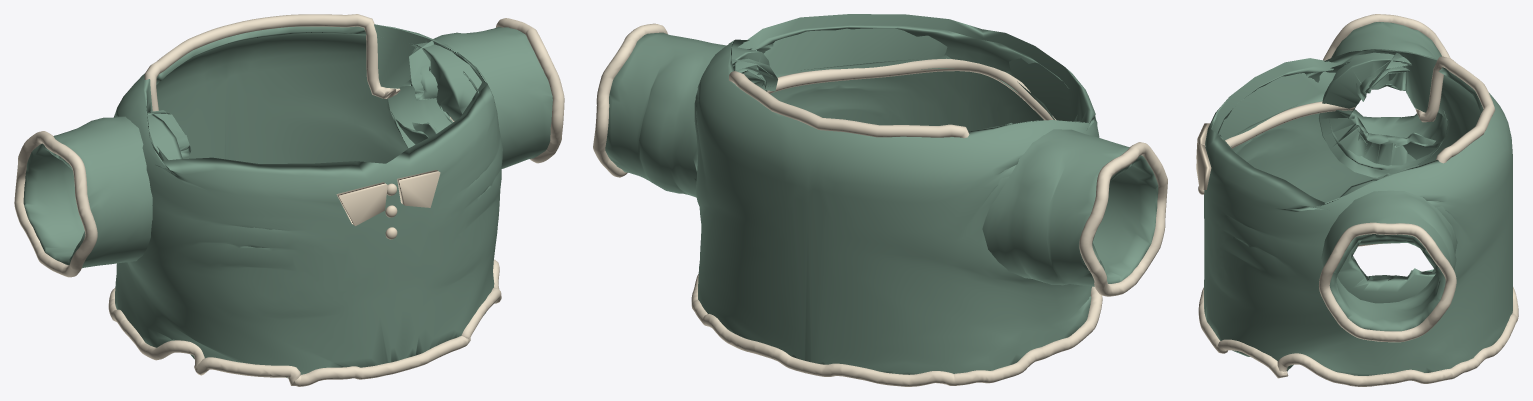
File: 2HT-feminino.glb
The picture shows the model from 3 angles, left to right: view 1: azimuth 30°, elevation 25°; view 2: azimuth 150°, elevation 25°; view 3: azimuth 270°, elevation 25°; orthographic projection. The views are drawn at different scales.
Parts seen in each view (by area): view 1: fitted-shell, bound-edge (×4), collar--1, collar-1; view 2: fitted-shell, bound-edge (×4); view 3: fitted-shell, bound-edge (×4), collar-1.
Boxes of the visible parts, <box> form: fitted-shell: <box>23,24,552,378</box>; bound-edge (×4): <box>14,14,564,386</box>; collar--1: <box>336,182,387,225</box>; collar-1: <box>397,170,440,207</box>; fitted-shell: <box>605,14,1158,374</box>; bound-edge (×4): <box>593,23,1167,386</box>; fitted-shell: <box>1204,22,1512,375</box>; bound-edge (×4): <box>1198,14,1518,386</box>; collar-1: <box>1196,144,1211,189</box>.
Bounding box in the file's own units: 0.0587 × 0.0273 × 0.0371.
